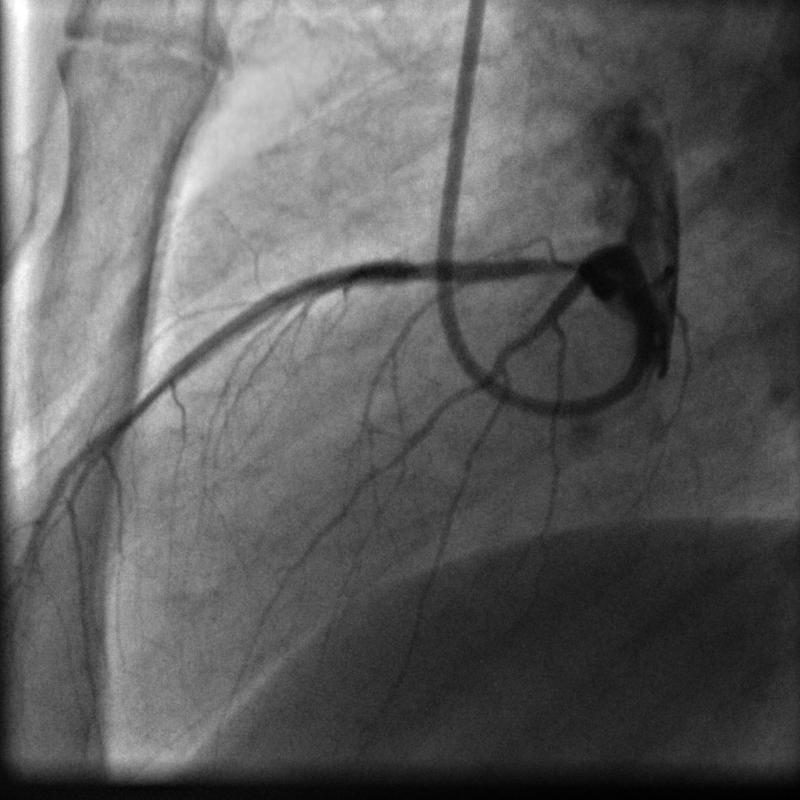Stenosis: (399, 251, 427, 290)
